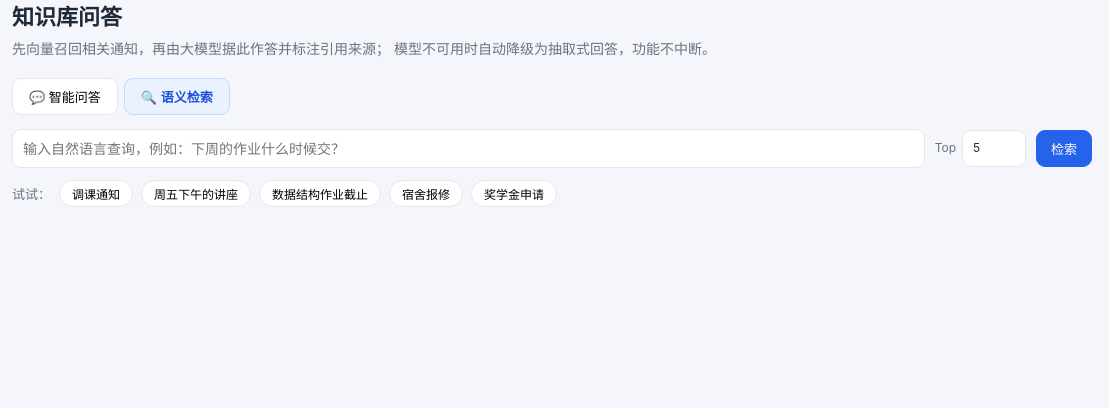
it: Search 组件的问答模式 › 降级回答展示「抽取式」标记与说明 banner
Click the button "💬 智能问答". click: click(65, 96)
box: top-left (12, 78), bottom-right (118, 115)
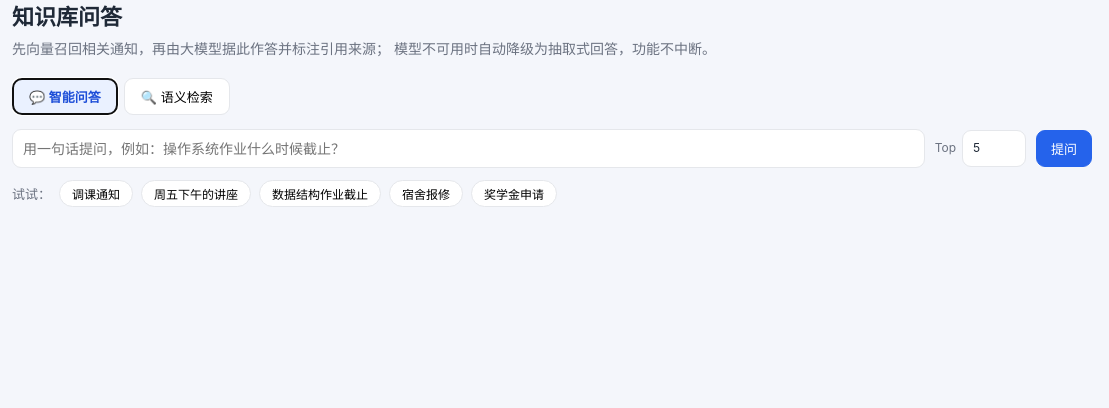
Type "宿舍报修怎么申请" into the field. click: (468, 149)
box: top-left (12, 129), bottom-right (925, 168)
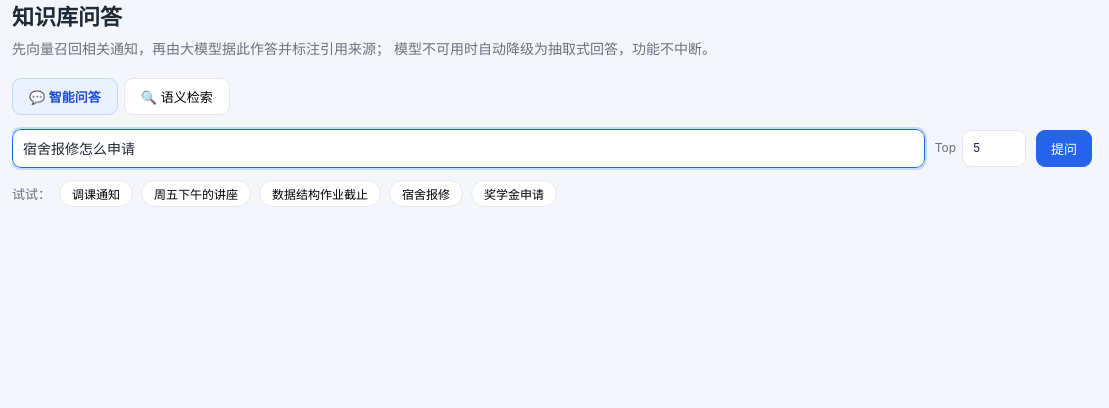
Click the button "提问". click: click(1064, 149)
box: top-left (1036, 130), bottom-right (1092, 167)
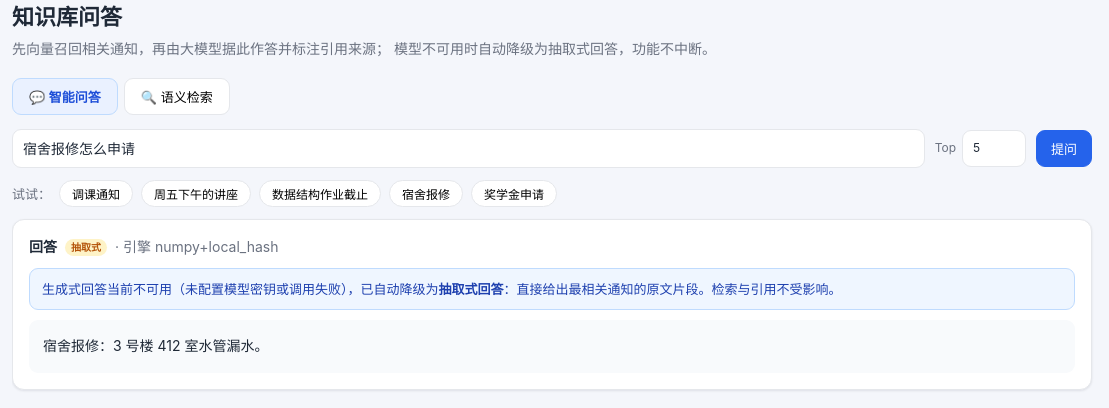
expect the text "抽取式" is shown: met, box top-left (65, 239), bottom-right (107, 256)
expect the element with class "banner" is shown: met, box top-left (29, 268), bottom-right (1075, 310)
